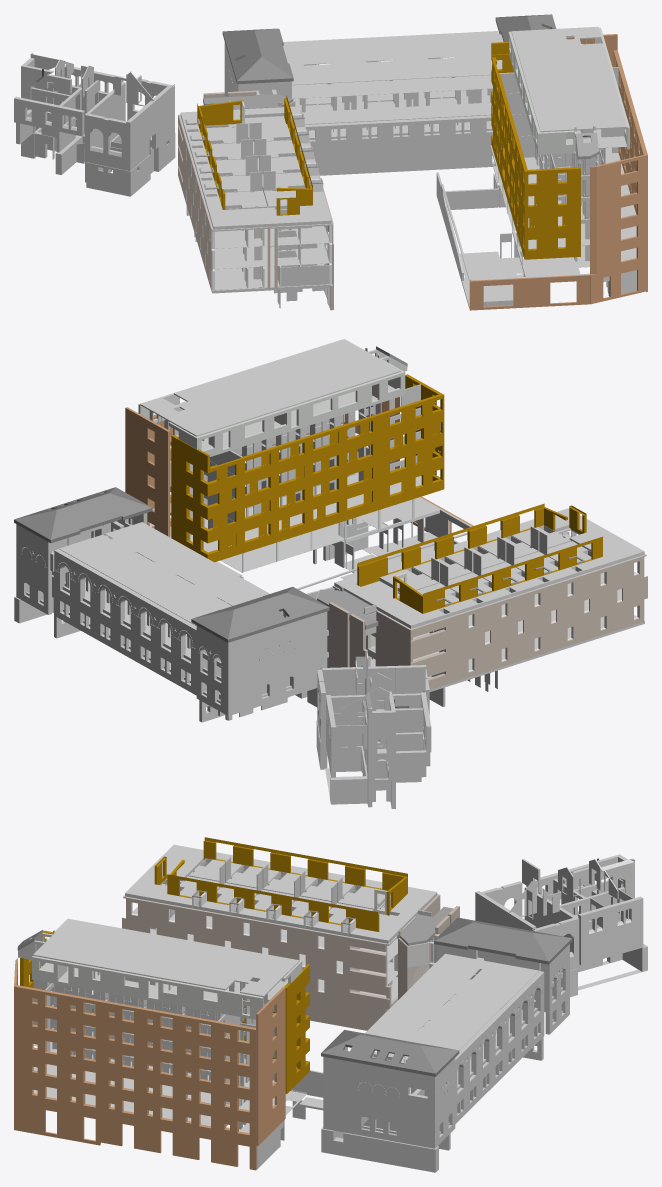
3 views of the same model, one above another, from view 1: azimuth 30°, elevation 25°; view 2: azimuth 150°, elevation 25°; view 3: azimuth 270°, elevation 25° (orthographic). The views are drawn at different scales.
Visible parts, largest first — view 1: 3QFEKCLxP2f9dtfstGmkjl, 3V8kSwQBb0VurZZnmUaBl7, 1AbLIaTEP9$vq9069m8k9r, 0JkEJHp0f7qgjeyrC9bOkJ, 2b8lMUN5P6YQyBAxBTNc3H, 0U7rmT4IPAlhxBLDlxpUhW, 1U0br3$JvFPfZoYnq7UBlR, 0JkEJHp0f7qgjeyrC9bOlH, 2Zn_SVqdP0rhwFqa2gfjuJ, 0dCvdn$tP8J8Pce3LYxZnP, 03iqy5JGjEneJSwMZo1zQv, 2VXcGOTuXE8OqpwB6C$KaV (+60 smaller); view 2: 2Zn_SVqdP0rhwFqa2gfjuJ, 3QFEKCLxP2f9dtfstGmkjl, 3V8kSwQBb0VurZZnmUaBl7, 1U0br3$JvFPfZoYnq7UBk1, 2b8lMUN5P6YQyBAxBTNc3H, 1U0br3$JvFPfZoYnq7UBk3, 1ogqBIIRH0_OVXG7BLQj2O, 1ogqBIIRH0_OVXG7BLQjJI, 0aCEPKg_H9OvZevFC$EmAI, 1SqIX1NHr4y9r21BrJULLV, 3KfzEngsv8YwMabS4jtD7c, 1S000kHDjBMwBhQw$v1HZe (+35 smaller); view 3: 2bj1F1POr2VRN3zqZXq2A2, 3QFEKCLxP2f9dtfstGmkjl, 3V8kSwQBb0VurZZnmUaBl7, 2b8lMUN5P6YQyBAxBTNc3H, 1ymmlFXAX4hPyaqylAc5zv, 08EHDjqBfAOwT4bHvRCmx8, 0aCEPKg_H9OvZevFC$EmI$, 1U0br3$JvFPfZoYnq7UBk1, 2JN01VGgzAQx0r11hmPrsb, 3KfzEngsv8YwMabS4jtD7c, 0LquIwDuXDpwouPZGlNAmc, 0aCEPKg_H9OvZevFC$EmVB (+45 smaller).
Part boxes in pixels (box(x1,y1,x2,y2)): 3QFEKCLxP2f9dtfstGmkjl: box(511, 26, 627, 132); 3V8kSwQBb0VurZZnmUaBl7: box(283, 33, 502, 85); 1AbLIaTEP9$vq9069m8k9r: box(313, 138, 495, 175); 0JkEJHp0f7qgjeyrC9bOkJ: box(590, 155, 643, 274); 2b8lMUN5P6YQyBAxBTNc3H: box(180, 106, 331, 229); 0U7rmT4IPAlhxBLDlxpUhW: box(293, 77, 492, 124); 1U0br3$JvFPfZoYnq7UBlR: box(305, 115, 492, 147); 0JkEJHp0f7qgjeyrC9bOlH: box(528, 167, 580, 259); 2Zn_SVqdP0rhwFqa2gfjuJ: box(496, 74, 528, 259); 0dCvdn$tP8J8Pce3LYxZnP: box(292, 75, 492, 98); 03iqy5JGjEneJSwMZo1zQv: box(469, 274, 590, 310); 2VXcGOTuXE8OqpwB6C$KaV: box(126, 84, 174, 171); 2Zn_SVqdP0rhwFqa2gfjuJ: box(243, 393, 444, 552); 3QFEKCLxP2f9dtfstGmkjl: box(140, 339, 400, 436); 3V8kSwQBb0VurZZnmUaBl7: box(59, 522, 269, 625); 1U0br3$JvFPfZoYnq7UBk1: box(54, 549, 196, 674); 2b8lMUN5P6YQyBAxBTNc3H: box(334, 508, 644, 628); 1U0br3$JvFPfZoYnq7UBk3: box(225, 611, 327, 693); 1ogqBIIRH0_OVXG7BLQj2O: box(445, 576, 647, 662); 1ogqBIIRH0_OVXG7BLQjJI: box(446, 599, 644, 684); 0aCEPKg_H9OvZevFC$EmAI: box(445, 555, 644, 640); 1SqIX1NHr4y9r21BrJULLV: box(195, 372, 402, 456); 3KfzEngsv8YwMabS4jtD7c: box(125, 424, 170, 537); 1S000kHDjBMwBhQw$v1HZe: box(170, 497, 439, 572); 2bj1F1POr2VRN3zqZXq2A2: box(14, 984, 259, 1142); 3QFEKCLxP2f9dtfstGmkjl: box(33, 919, 299, 997); 3V8kSwQBb0VurZZnmUaBl7: box(365, 953, 538, 1050); 2b8lMUN5P6YQyBAxBTNc3H: box(125, 844, 437, 943); 1ymmlFXAX4hPyaqylAc5zv: box(327, 1057, 436, 1126); 08EHDjqBfAOwT4bHvRCmx8: box(32, 956, 263, 1019); 0aCEPKg_H9OvZevFC$EmI$: box(126, 897, 349, 958); 1U0br3$JvFPfZoYnq7UBk1: box(455, 971, 544, 1103); 2JN01VGgzAQx0r11hmPrsb: box(100, 1114, 256, 1170); 3KfzEngsv8YwMabS4jtD7c: box(256, 1003, 285, 1145); 0LquIwDuXDpwouPZGlNAmc: box(203, 837, 405, 890); 0aCEPKg_H9OvZevFC$EmVB: box(122, 917, 349, 980).
Bounding box in the file's own units: 64.86 × 21.8 × 72.77.
